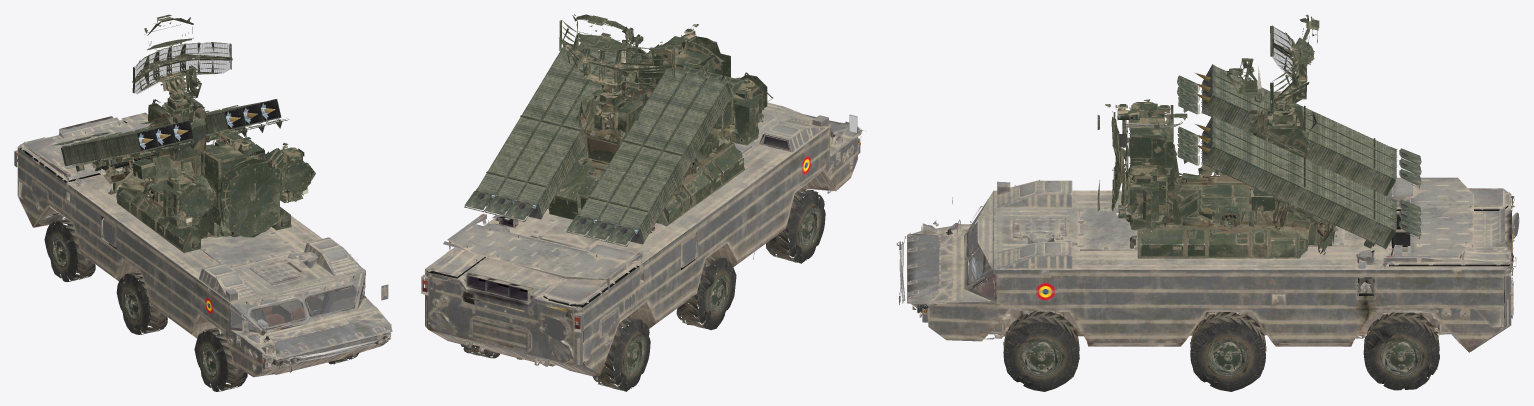
File: elite_anti_air.glb
3 views of the same model, side by side, from view 1: azimuth 30°, elevation 25°; view 2: azimuth 150°, elevation 25°; view 3: azimuth 270°, elevation 25° (orthographic). The views are drawn at different scales.
Parts seen in each view (by area): view 1: Object_2; view 2: Object_2; view 3: Object_2.
Boxes of the visible parts, x1,y1,x2,y2 form: Object_2: [14, 14, 392, 391]; Object_2: [421, 14, 866, 391]; Object_2: [896, 14, 1519, 391].
Size of the model in its own units: 2.6 by 4.68 by 7.98.
13 materials, 12 textured.
